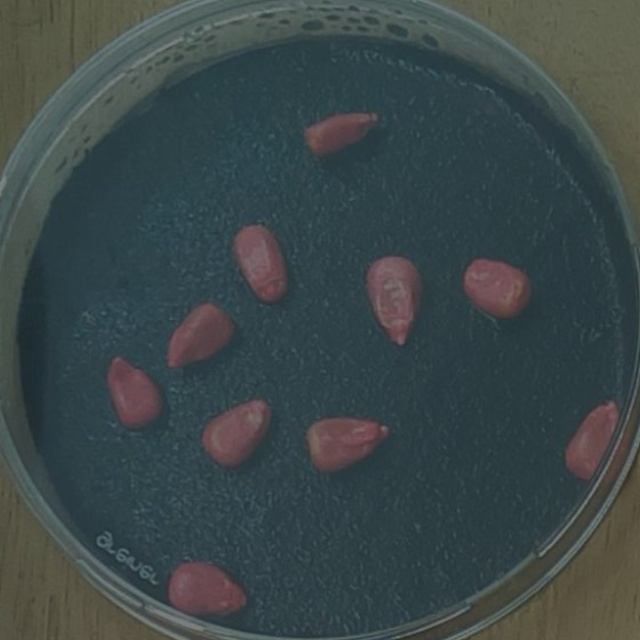Zea mays: (358, 249, 430, 358), (298, 406, 398, 484), (158, 553, 254, 632), (157, 293, 243, 378), (194, 390, 278, 476), (225, 215, 294, 316), (558, 395, 630, 487), (100, 349, 172, 439), (456, 251, 538, 328), (295, 101, 388, 166)
